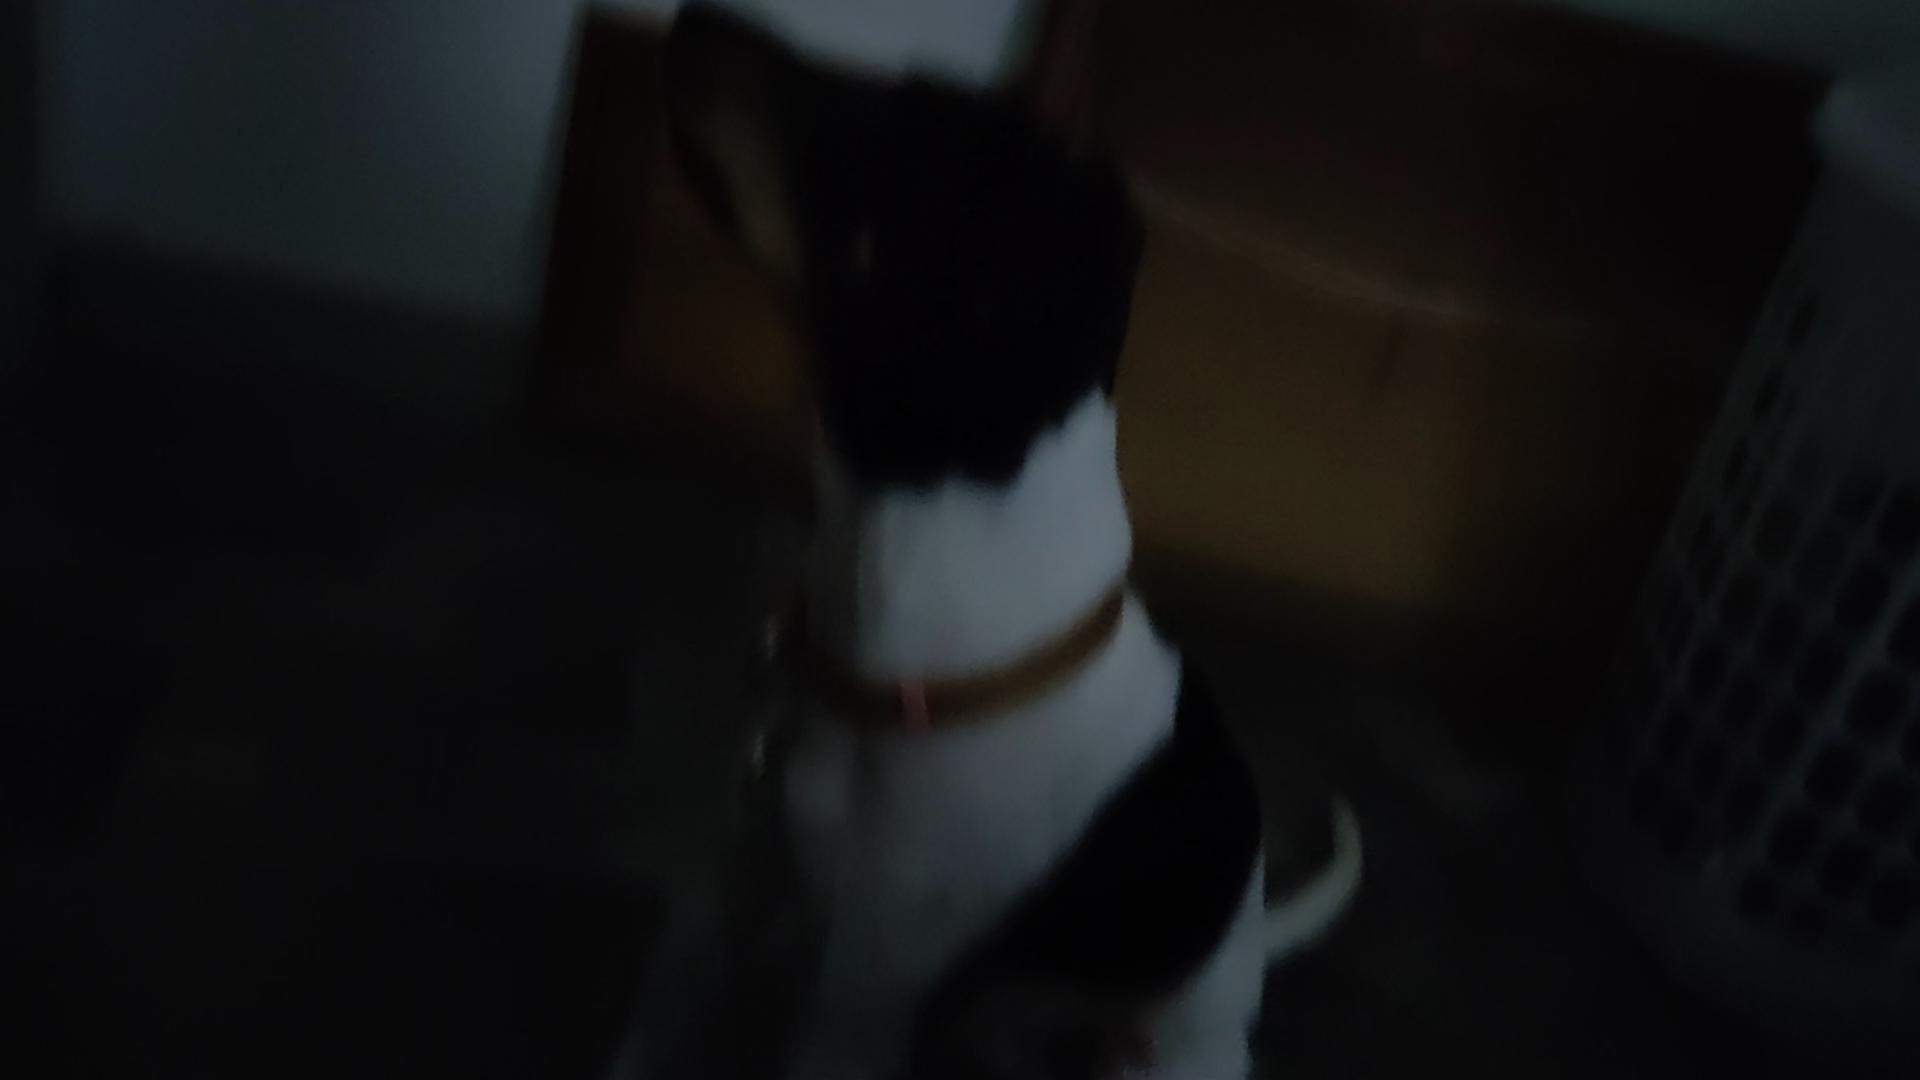Dog: (574, 0, 1385, 1079)
